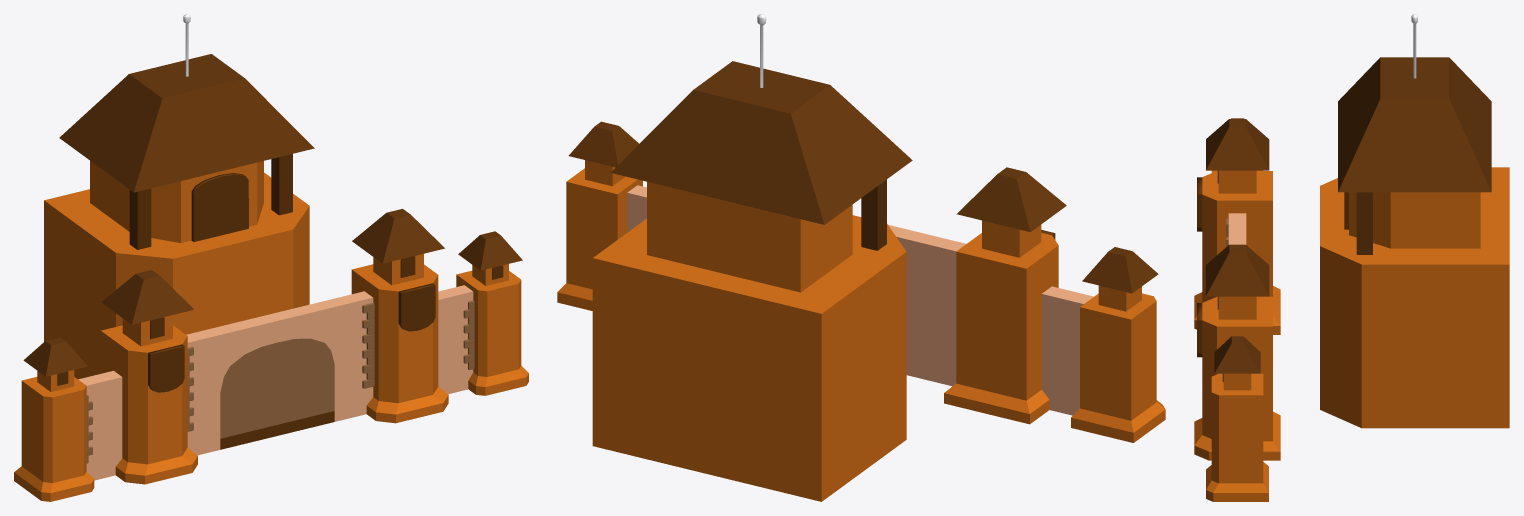
File: Castle_03.fbx
3 renders of one model, left to right at view 1: azimuth 30°, elevation 25°; view 2: azimuth 150°, elevation 25°; view 3: azimuth 270°, elevation 25°, orthographic. The views are drawn at different scales.
Parts seen in each view (by area): view 1: Cube.009; view 2: Cube.009; view 3: Cube.009.
Boxes of the visible parts, left/top/right/bottom form: Cube.009: left=14, top=14, right=528, bottom=501; Cube.009: left=557, top=14, right=1165, bottom=501; Cube.009: left=1194, top=14, right=1509, bottom=501.
Size of the model in its own units: 22.77 by 15.85 by 12.4.
